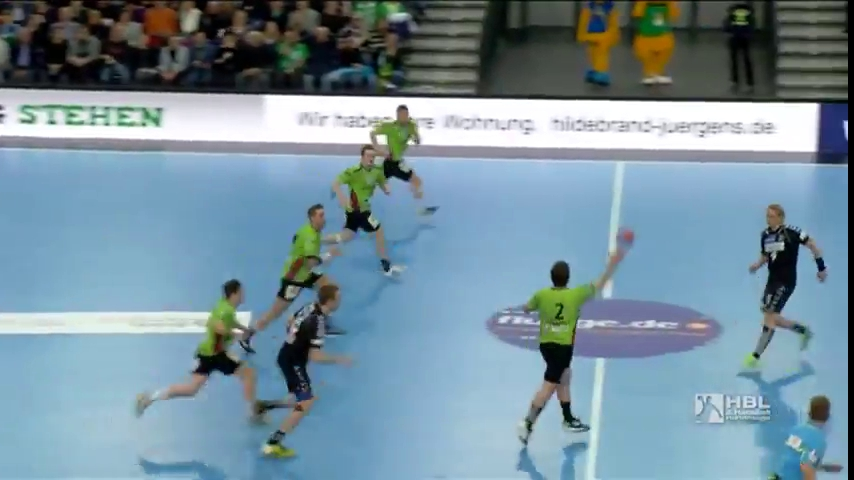person: (517, 245, 625, 448), (135, 279, 271, 426), (255, 284, 353, 461), (238, 202, 345, 353), (742, 205, 828, 371), (323, 143, 407, 280), (368, 105, 440, 219), (765, 394, 844, 479)
